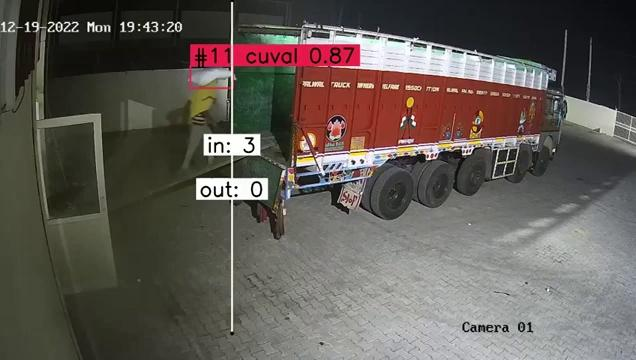karung: (192, 67, 231, 86)
